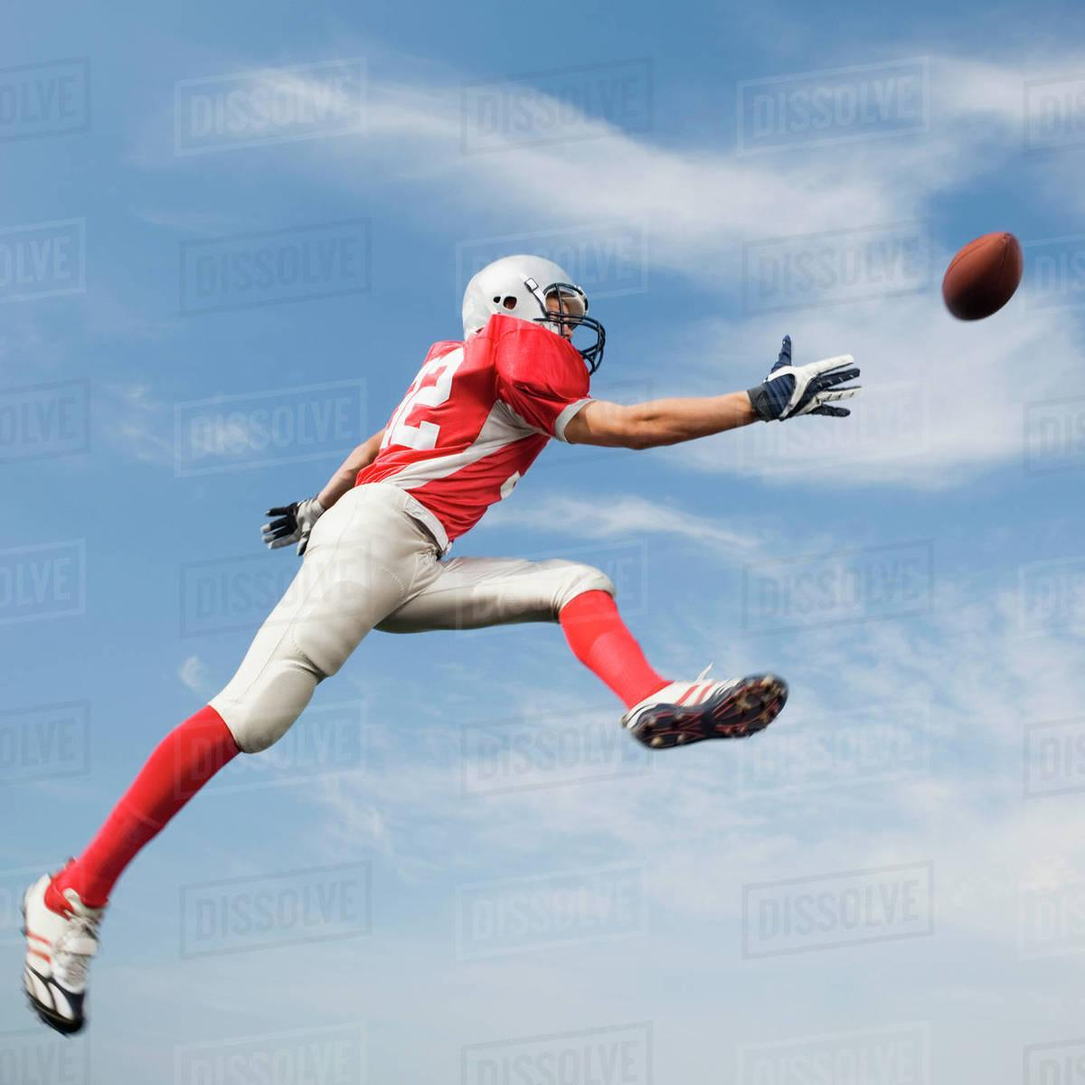americanFootball: (939, 228, 1026, 327)
